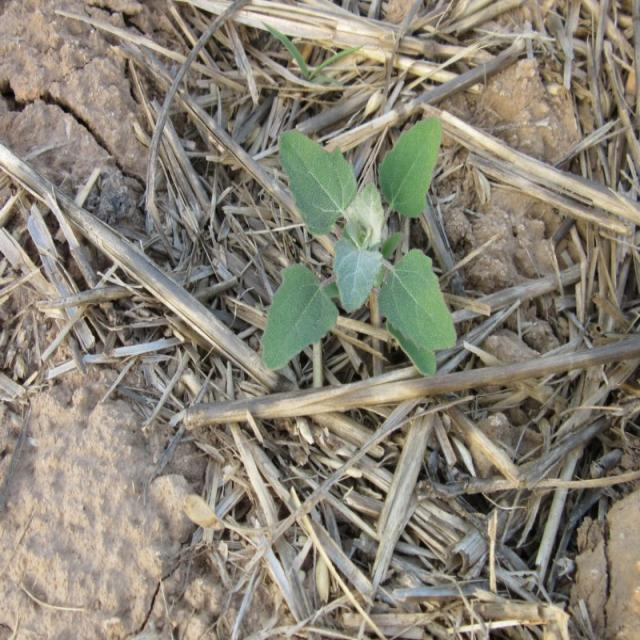ca: (259, 123, 456, 379)
